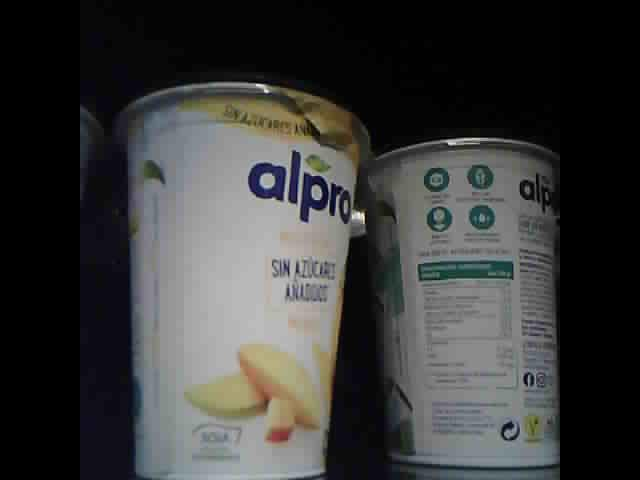alpro: (111, 74, 372, 480), (367, 133, 561, 469), (79, 97, 107, 209)
